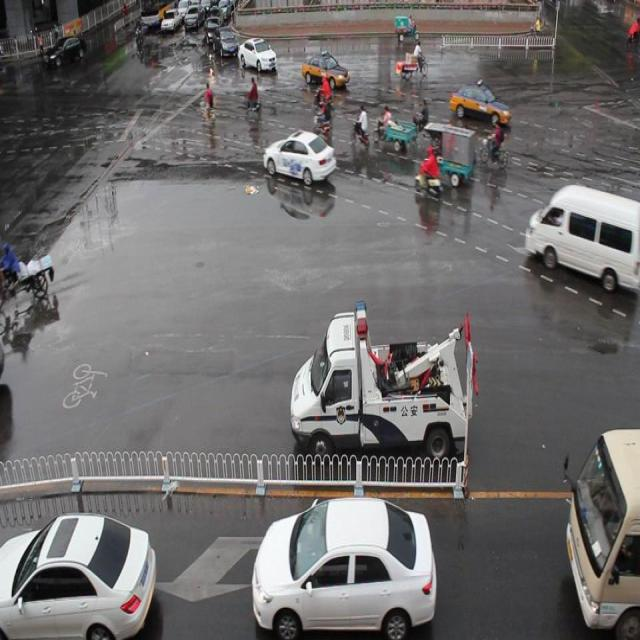bus: (290, 301, 479, 469)
car: (252, 494, 435, 640), (0, 511, 156, 640), (262, 128, 336, 186), (448, 79, 511, 125), (301, 48, 348, 89), (238, 38, 277, 71), (211, 25, 239, 60)
truck: (560, 423, 640, 640), (524, 181, 640, 293)
